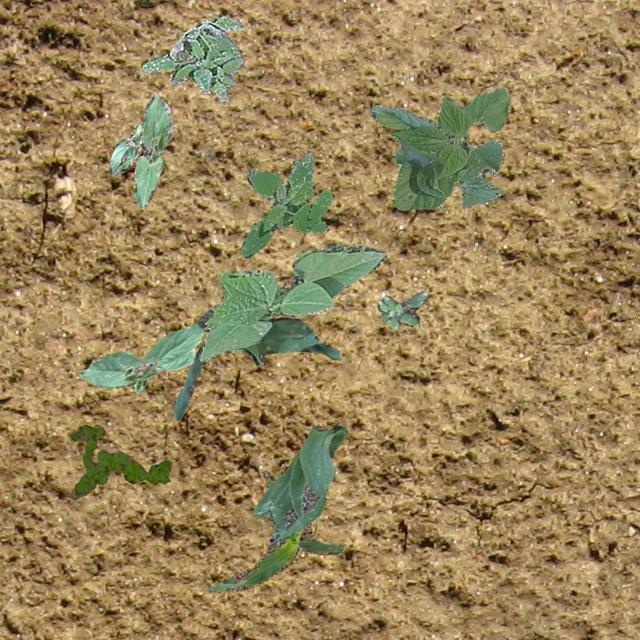crop: (196, 242, 384, 362), (172, 316, 340, 418), (370, 86, 510, 208), (206, 471, 342, 592), (252, 424, 346, 546), (78, 322, 204, 392), (132, 92, 172, 208), (108, 122, 142, 174)
weed: (240, 152, 332, 258), (142, 13, 245, 102), (70, 424, 170, 496), (376, 290, 426, 326)
